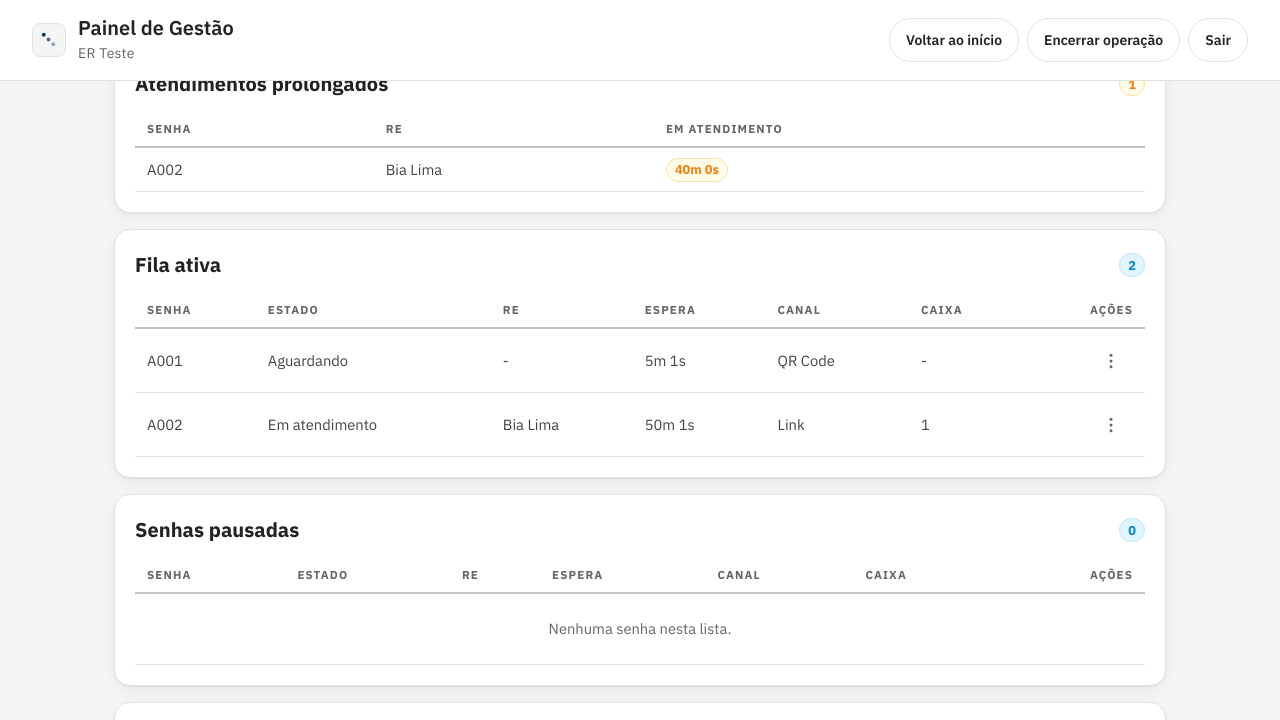
Test case: ManagerPage › opens the cancel confirmation from the active queue row menu
This screenshot has width=1280, height=720.
(page scrolled)
Expected: the heading "Fila ativa" is shown, [135,250,221,280]
Click the button named "Ações da senha A001". click: (1111, 361)
box: [1089,339,1133,383]
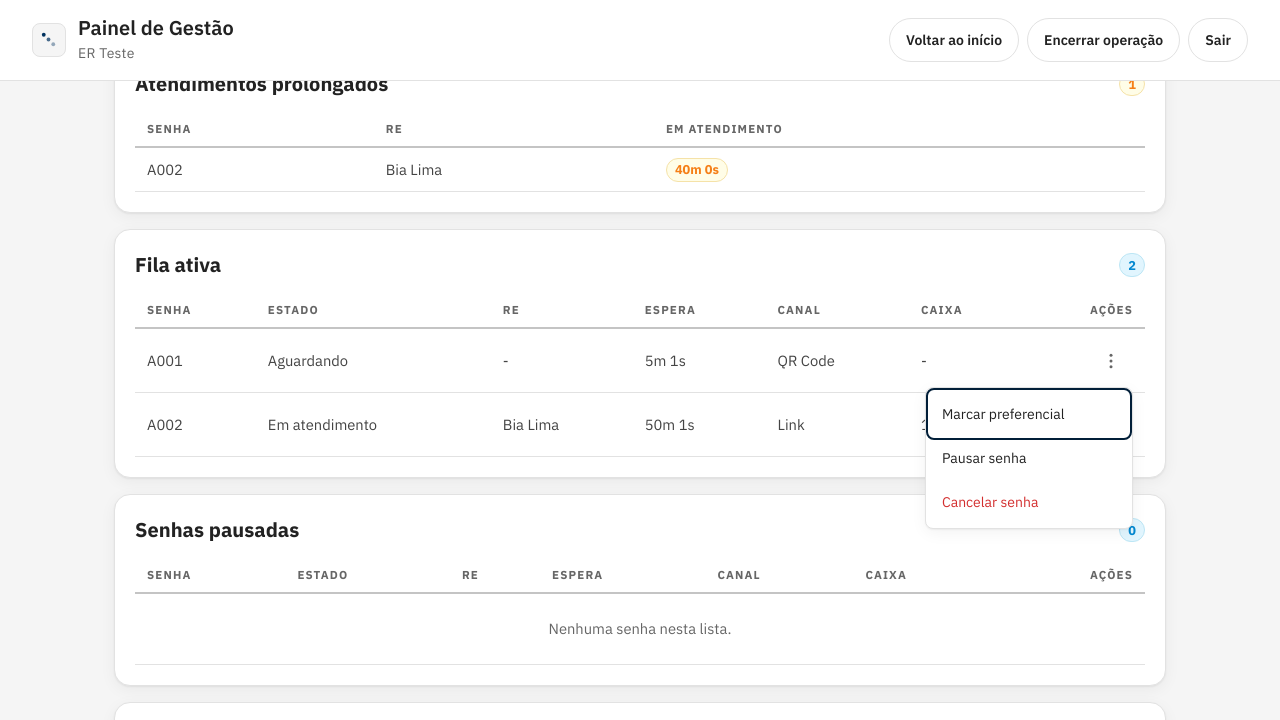
Click the menu item "Cancelar senha". click: (1029, 502)
box: [930,480,1128,524]
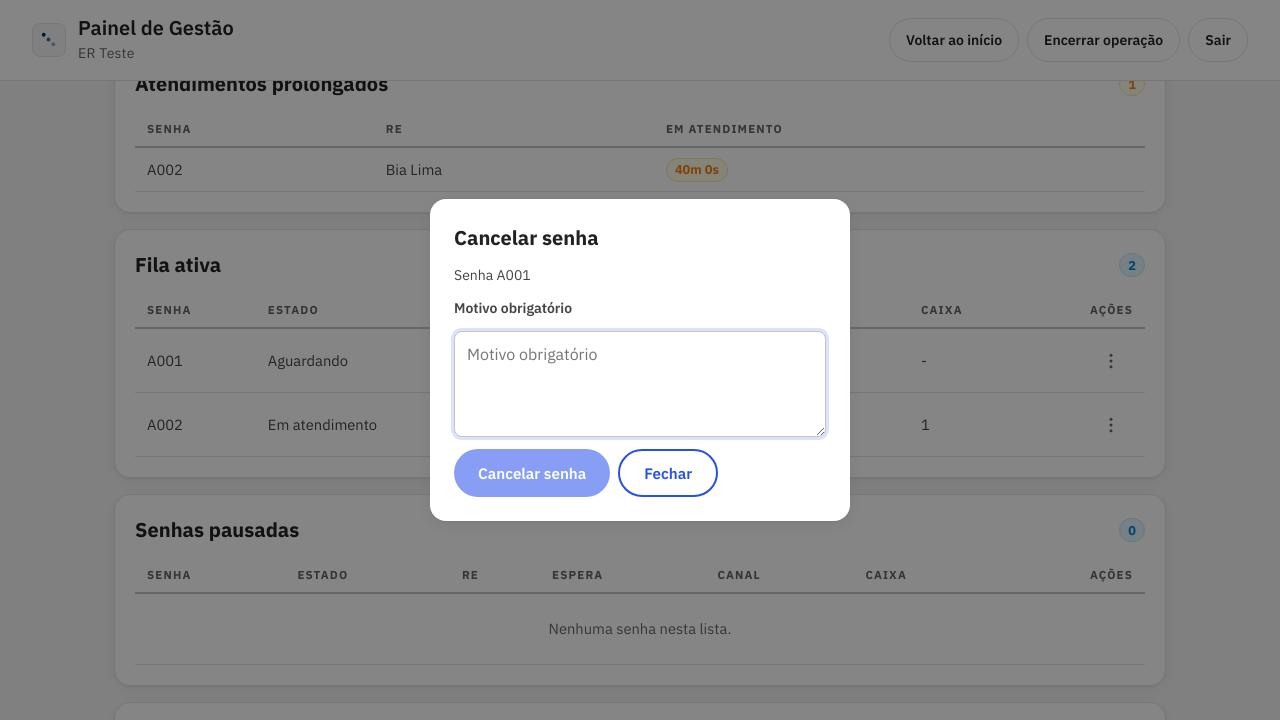
Result: the dialog is shown at [430,199,850,521]
Result: the heading "Cancelar senha" is shown at [454,224,599,251]
